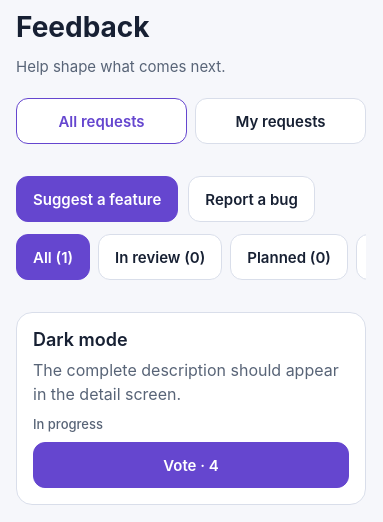
Test: rapid vote taps make only one pending mutation
Click the button "Vote · 4" at [191, 465], box [33, 442, 349, 488]
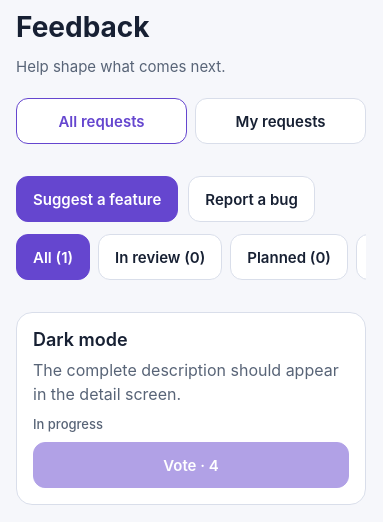
Click the button "Vote · 4" at [191, 465], box [33, 442, 349, 488]
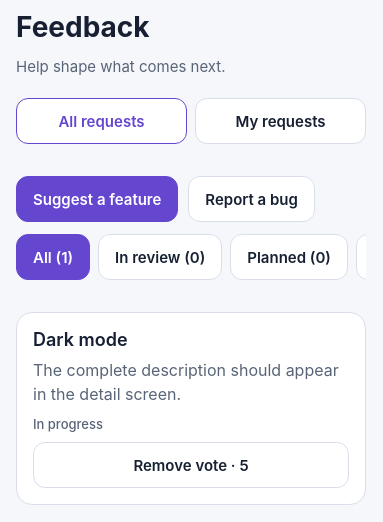
Now the text "Remove vote · 5" is shown, box [133, 456, 249, 474]
